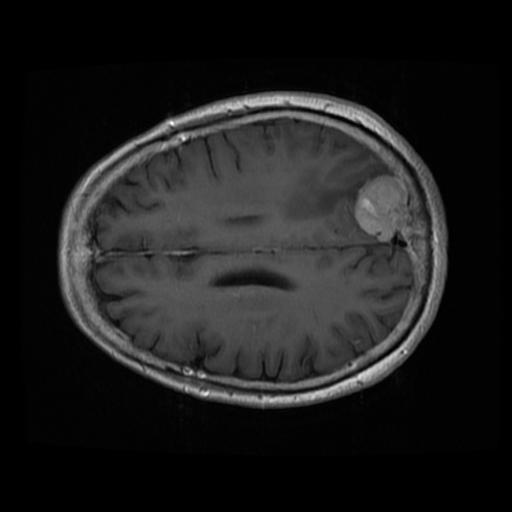meningioma: (353, 175, 408, 241)
